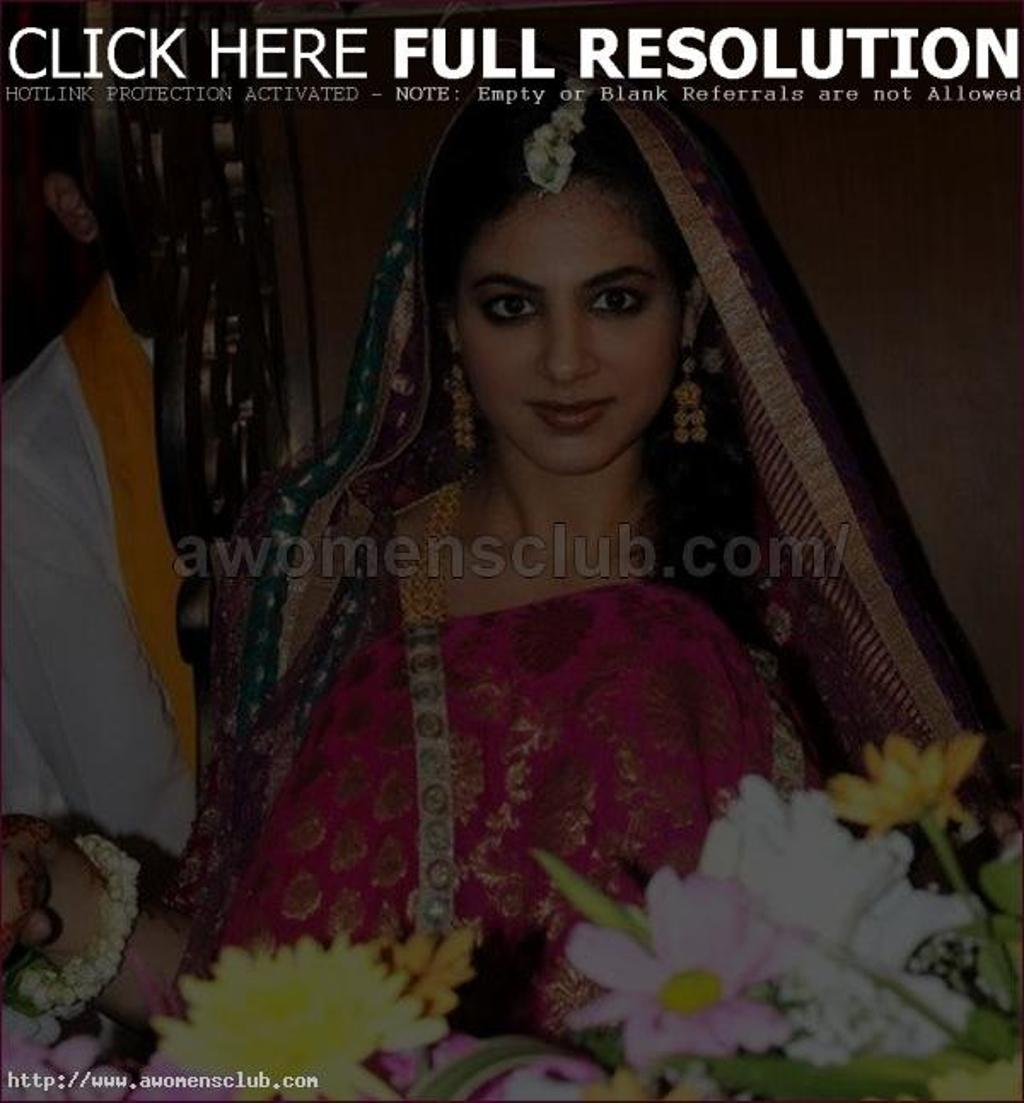face: (466, 201, 670, 461)
